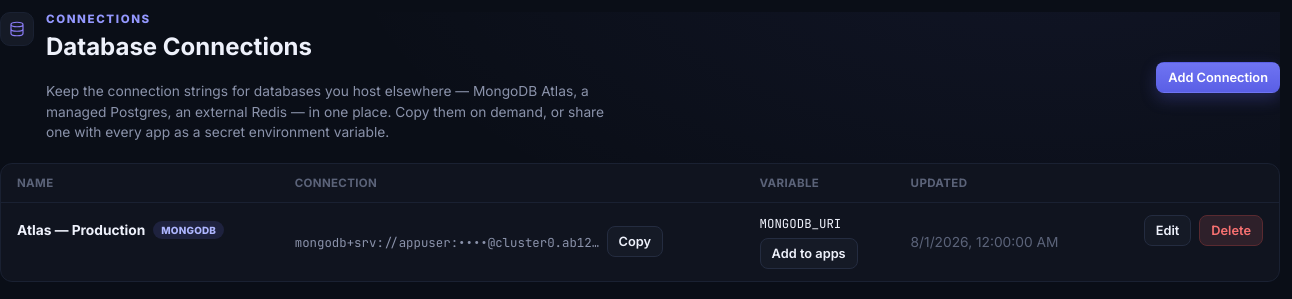
Scenario: ConnectionsPage › Copy fetches the revealed string and writes it to the clipboard
expect the text "Atlas — Production" is shown: met, box [17, 222, 145, 238]
Click the button "Copy" at (635, 242), box [606, 226, 663, 257]
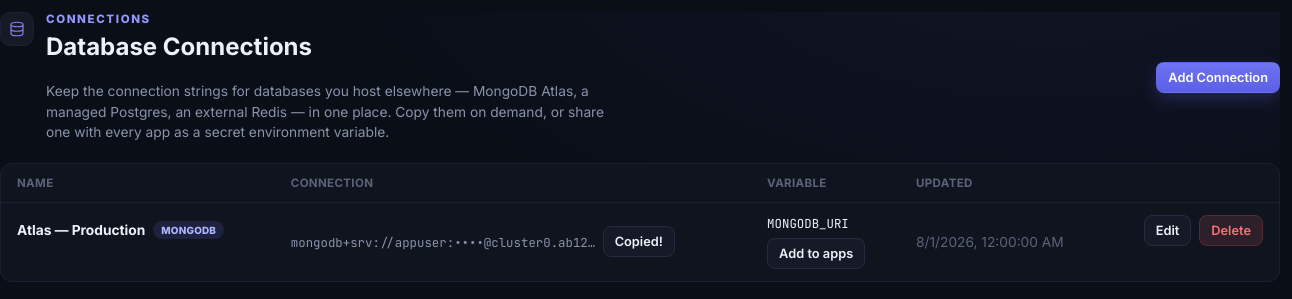
expect the button "Copied!" is shown: met, box [603, 226, 675, 257]
